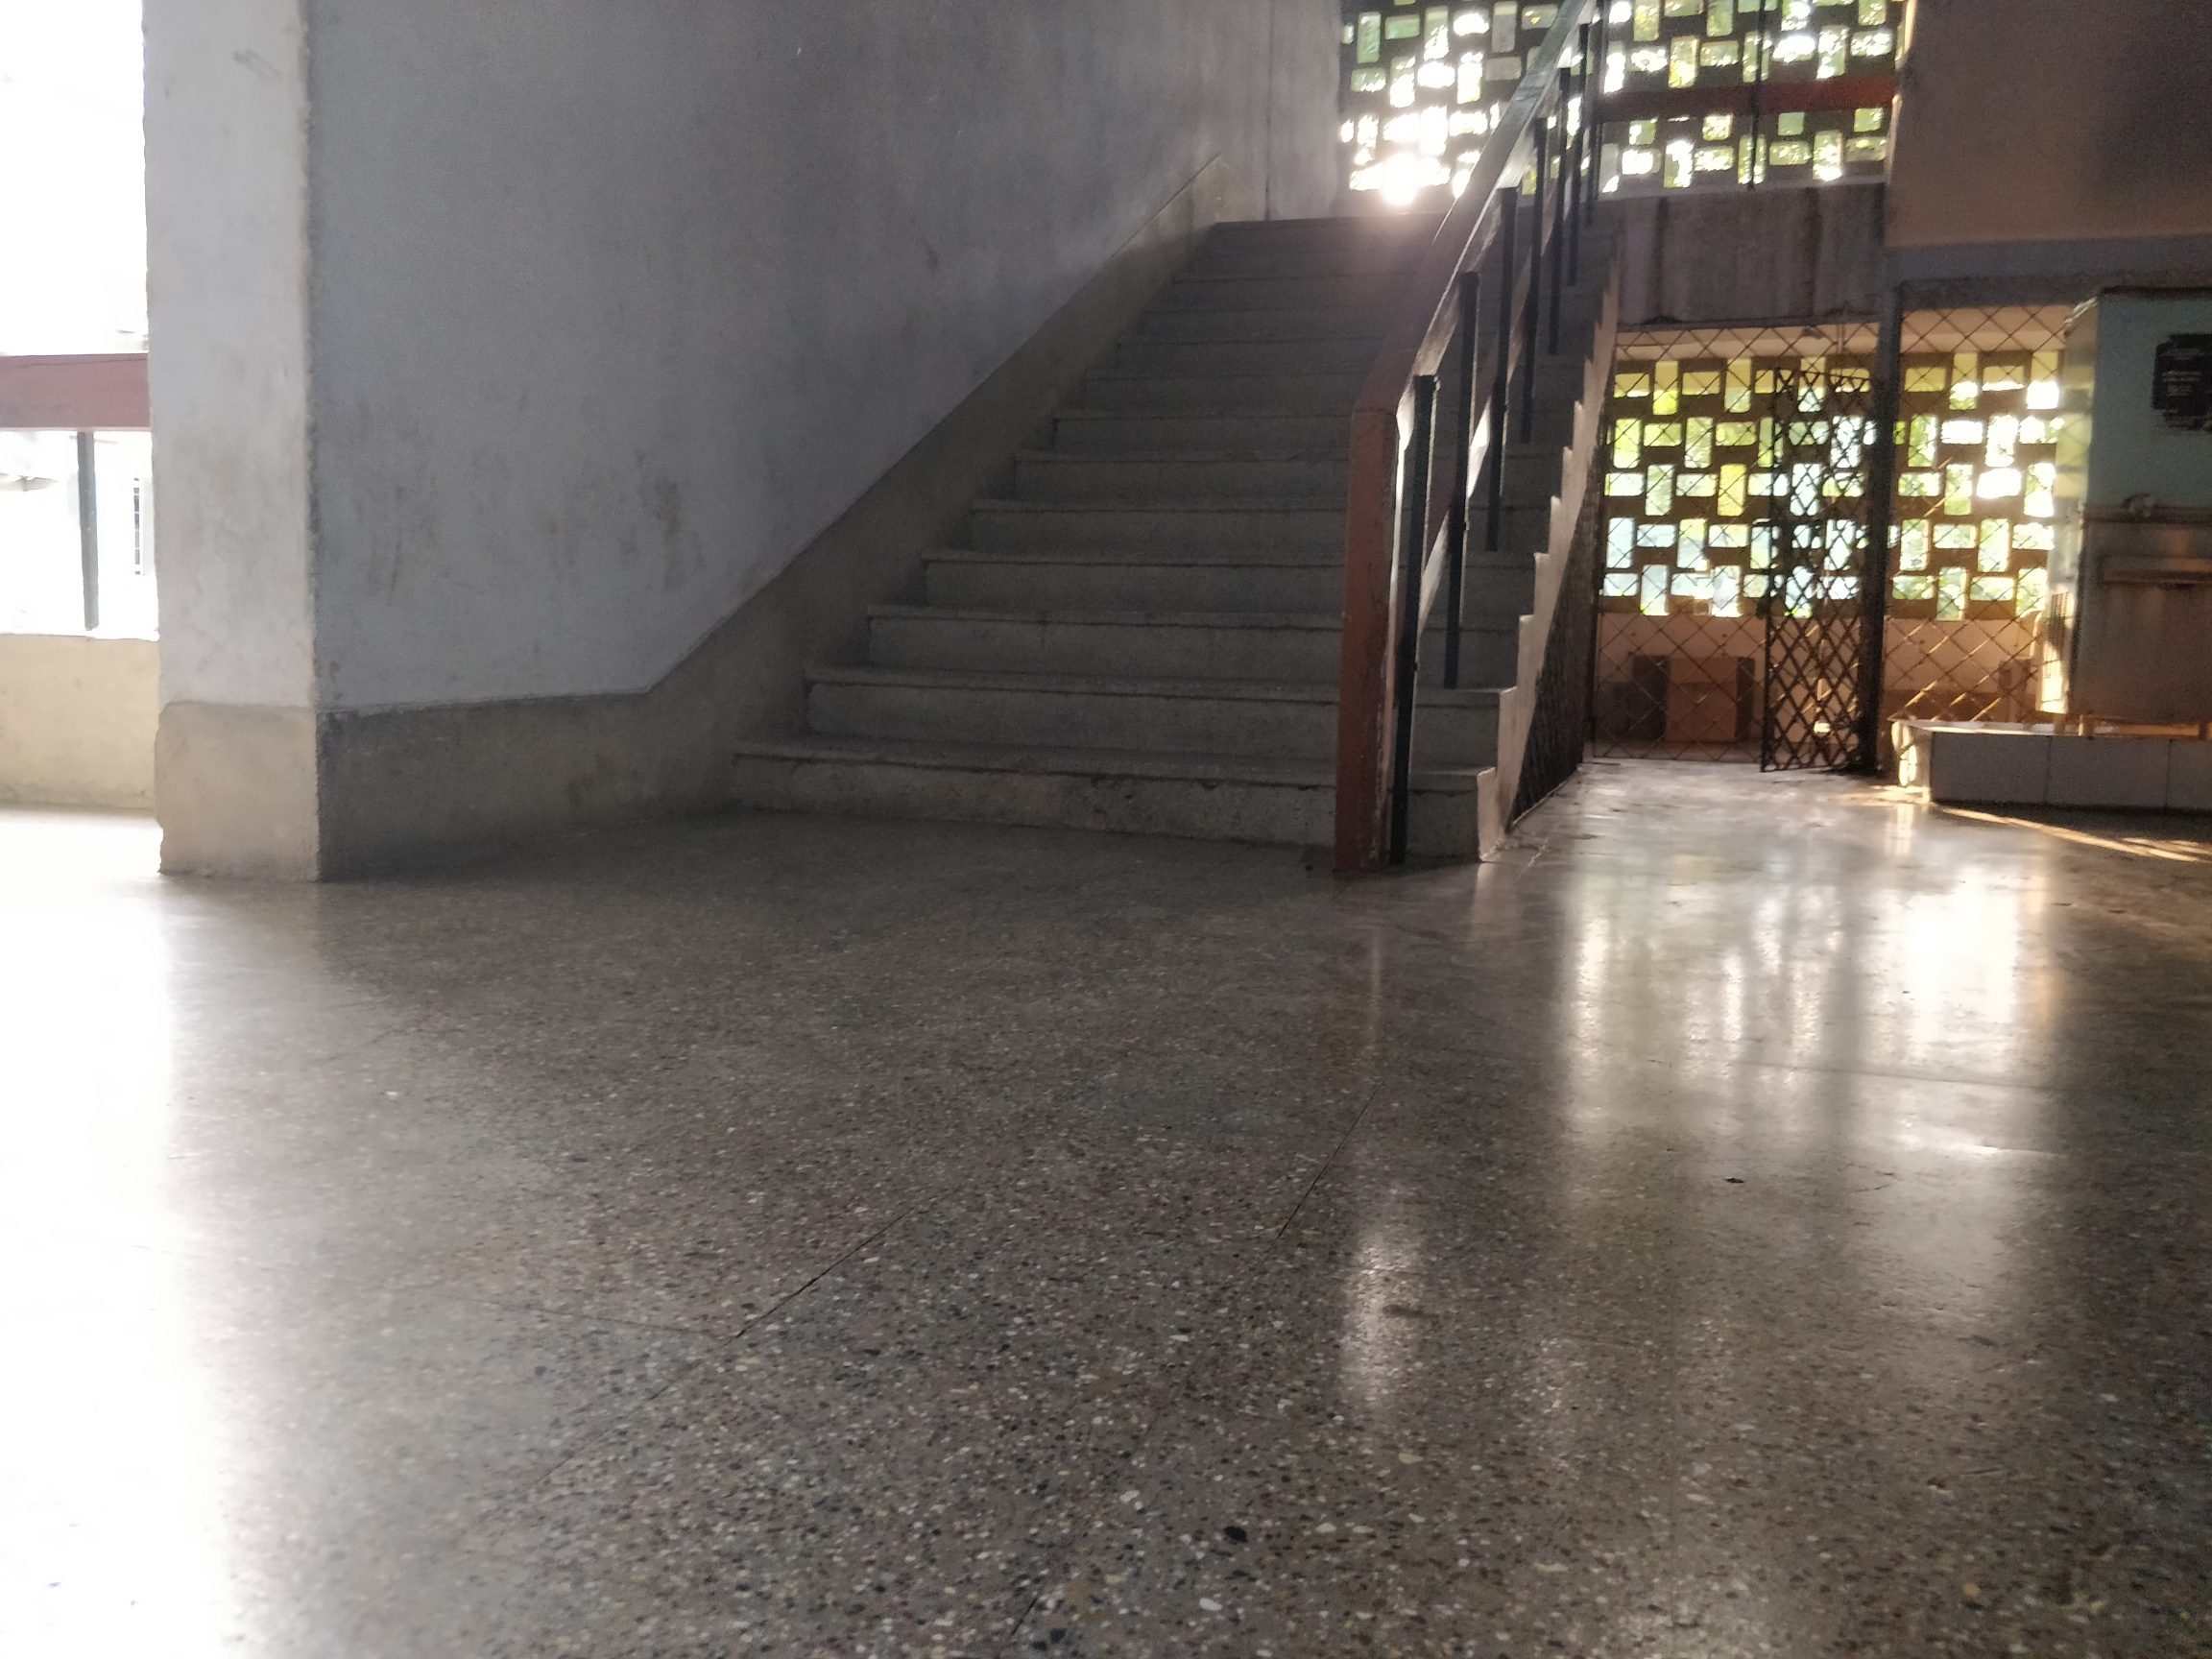stairs_up: (702, 171, 1627, 870)
